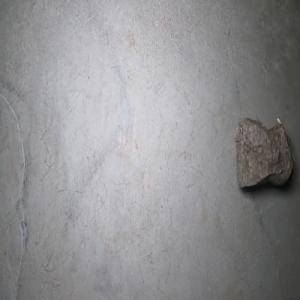Rock: (234, 114, 295, 188)
